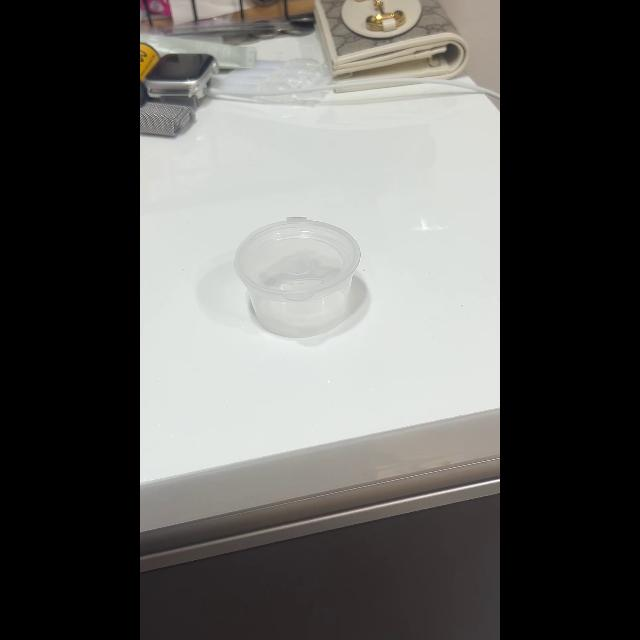clean: (232, 215, 362, 337)
